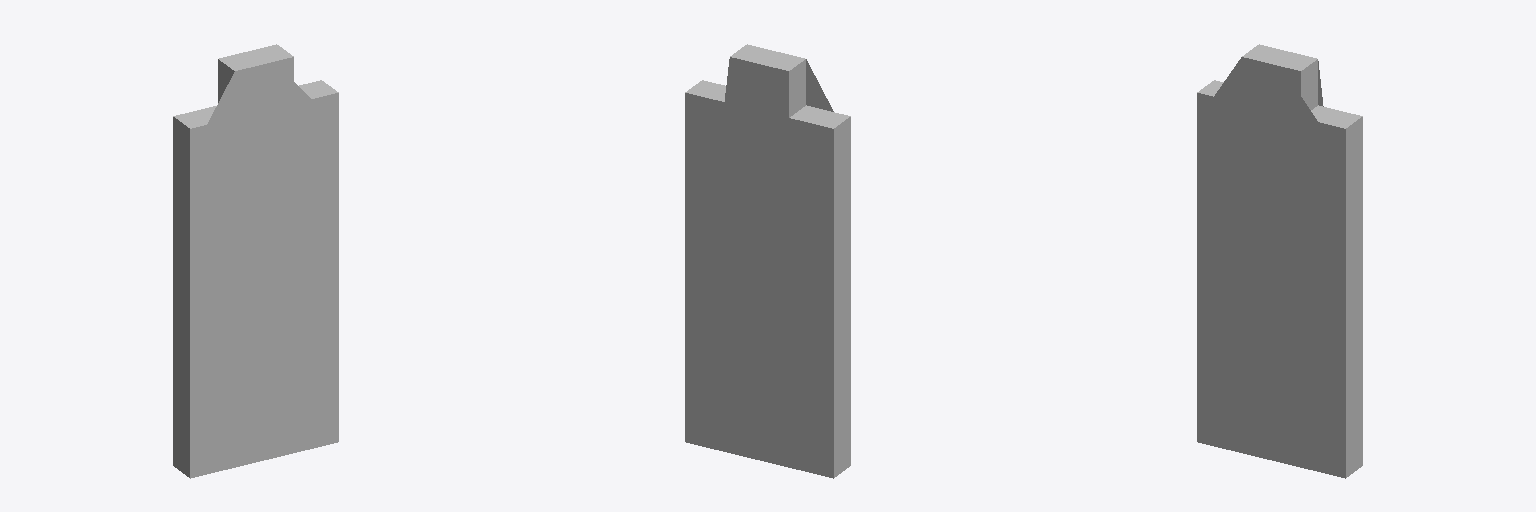
Rendered from Portal_2.obj.
The picture shows the model from 3 angles: view 1: azimuth 30°, elevation 25°; view 2: azimuth 150°, elevation 25°; view 3: azimuth 330°, elevation 25°; orthographic projection.
Size of the model in its own units: 0.5 by 1.27 by 0.1.